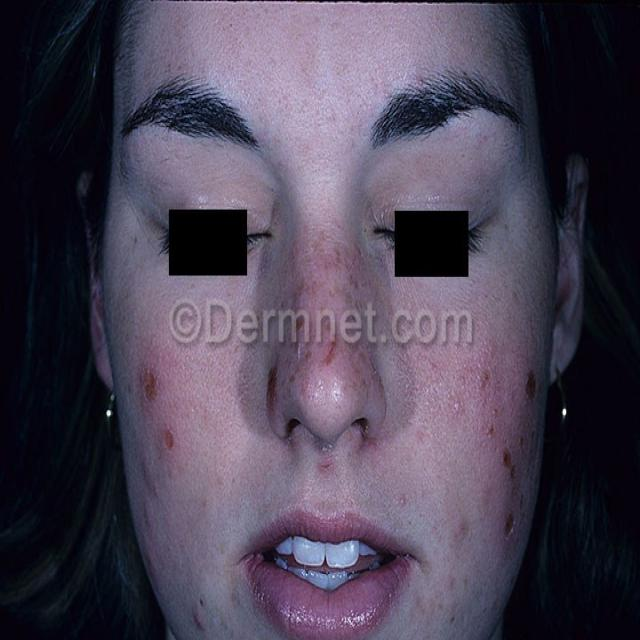acne: (134, 335, 235, 640), (460, 331, 542, 585), (284, 229, 374, 460)
